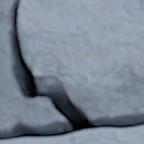brick: (18, 0, 143, 75), (0, 127, 143, 143)
crack: (0, 0, 143, 141)
